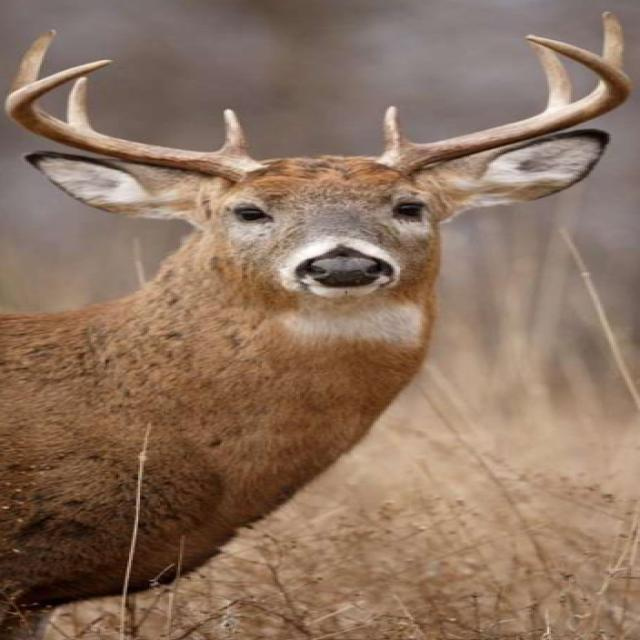L-F: (380, 35, 632, 175)
L-G1: (382, 105, 413, 156)
R-F: (5, 59, 266, 181)
R-G1: (210, 107, 256, 162)
R-G2: (66, 77, 94, 131)
